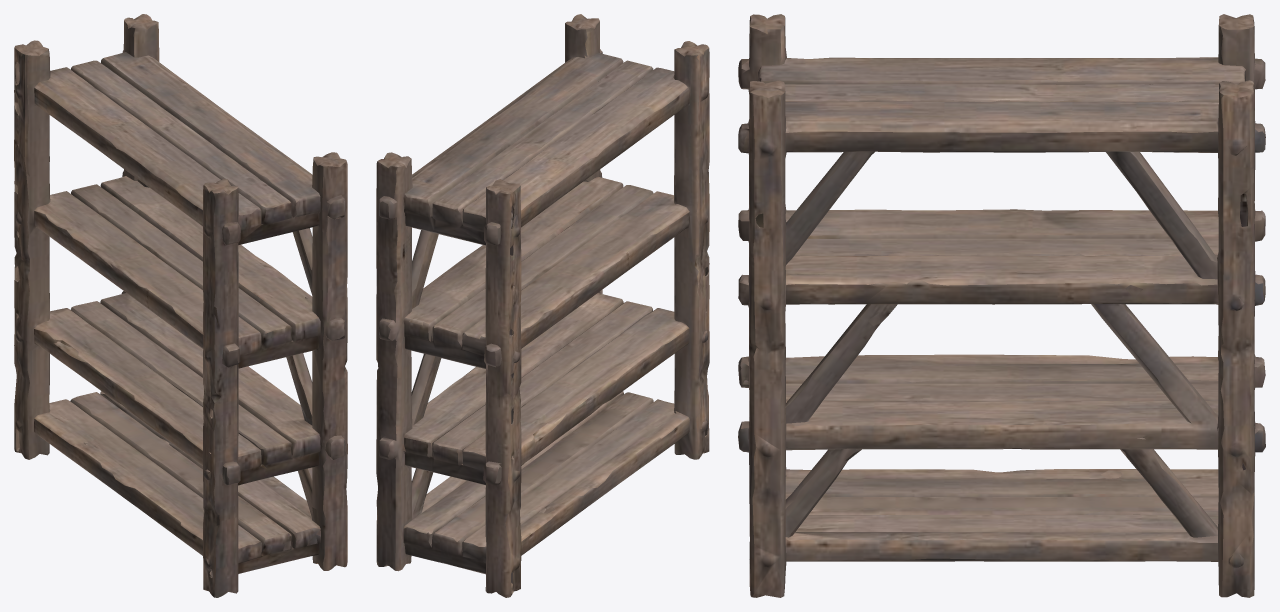
3 views of the same model, side by side, from view 1: azimuth 30°, elevation 25°; view 2: azimuth 150°, elevation 25°; view 3: azimuth 270°, elevation 25° (orthographic). The views are drawn at different scales.
Parts seen in each view (by area): view 1: geometry_0; view 2: geometry_0; view 3: geometry_0.
Boxes of the visible parts, x1,y1,x2,y2 form: geometry_0: [14, 14, 347, 597]; geometry_0: [376, 14, 709, 597]; geometry_0: [738, 14, 1265, 597].
Bounding box in the file's own units: 0.5406 × 1.5 × 1.42.
1 material, 1 textured.
